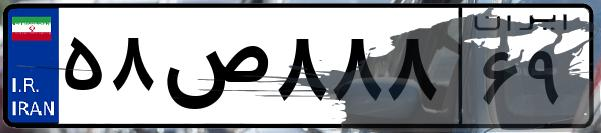5: (57, 26, 110, 100)
6: (475, 38, 525, 113)
8: (270, 28, 330, 110), (385, 28, 445, 110), (330, 28, 385, 110), (110, 28, 158, 98)
9: (525, 38, 570, 115)
ص: (158, 20, 270, 120)
